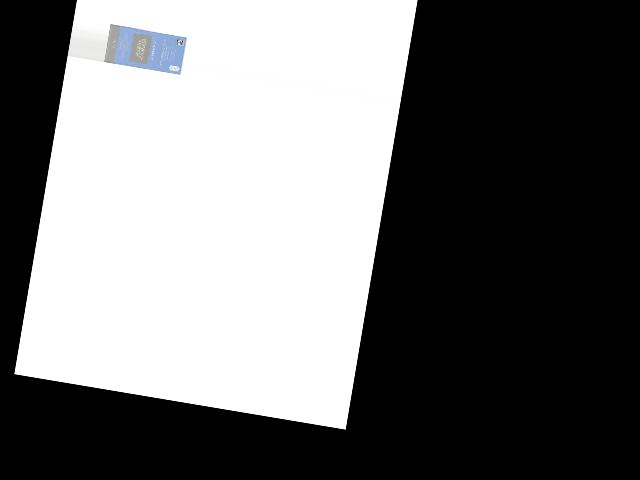chocolate: (104, 23, 185, 75)
